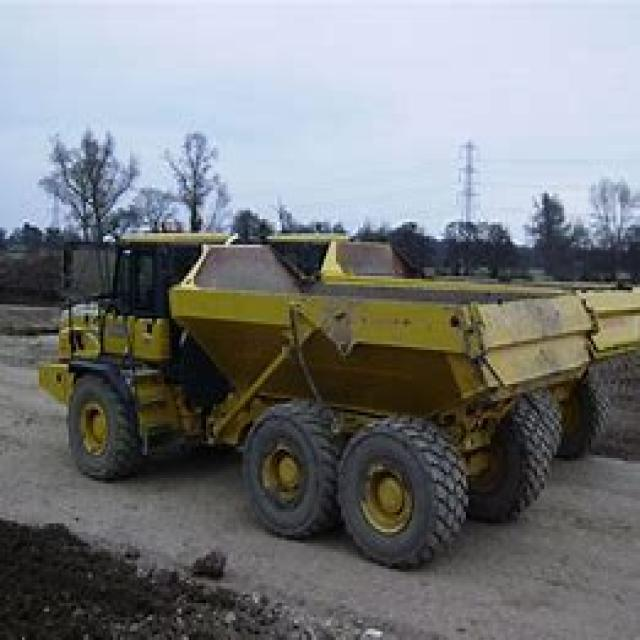dump_truck: (17, 202, 638, 569)
